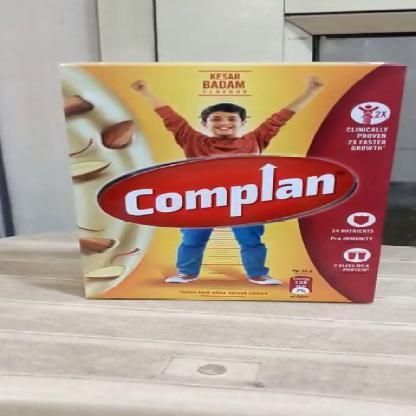Complan Kesar Badam: (46, 57, 415, 310)
